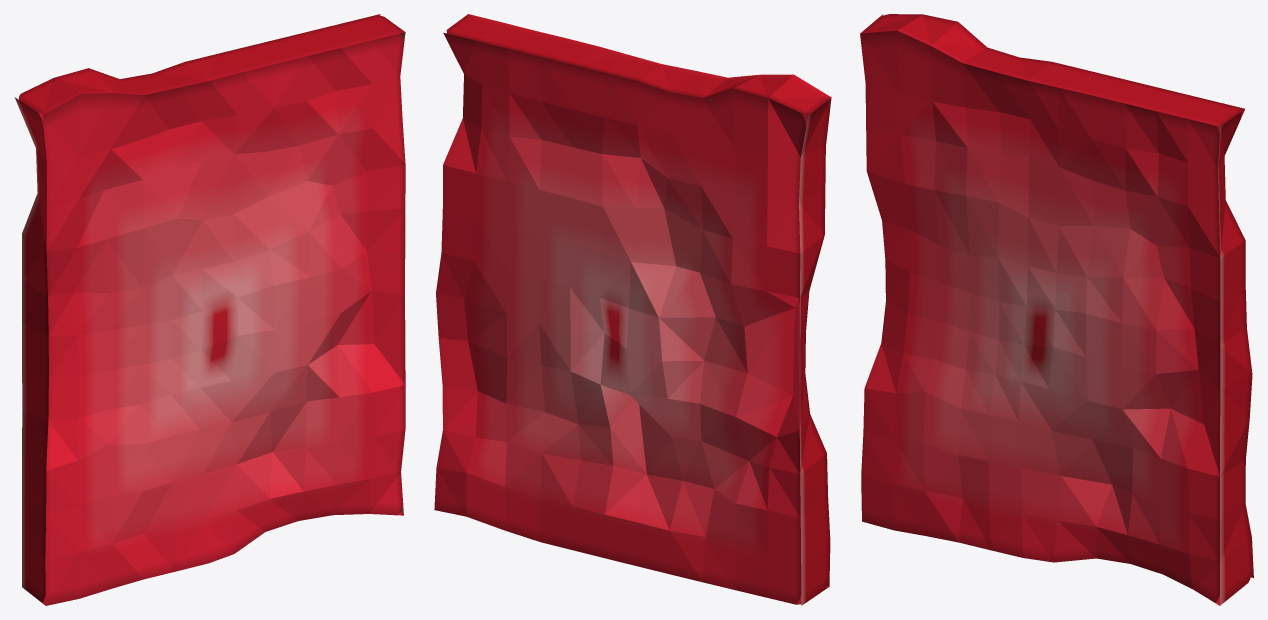
Rendered from red_moongate_0776x11.obj.
The picture shows the model from 3 angles, left to right: view 1: azimuth 30°, elevation 25°; view 2: azimuth 150°, elevation 25°; view 3: azimuth 330°, elevation 25°; orthographic projection.
Visible parts, largest first — view 1: red_moongate_0776x11; view 2: red_moongate_0776x11; view 3: red_moongate_0776x11.
Part boxes in pixels (bbox=[...]): red_moongate_0776x11: bbox=[14, 14, 405, 605]; red_moongate_0776x11: bbox=[434, 14, 831, 605]; red_moongate_0776x11: bbox=[860, 14, 1253, 605].
Bounding box in the file's own units: 4.31 × 5.54 × 0.6508.
